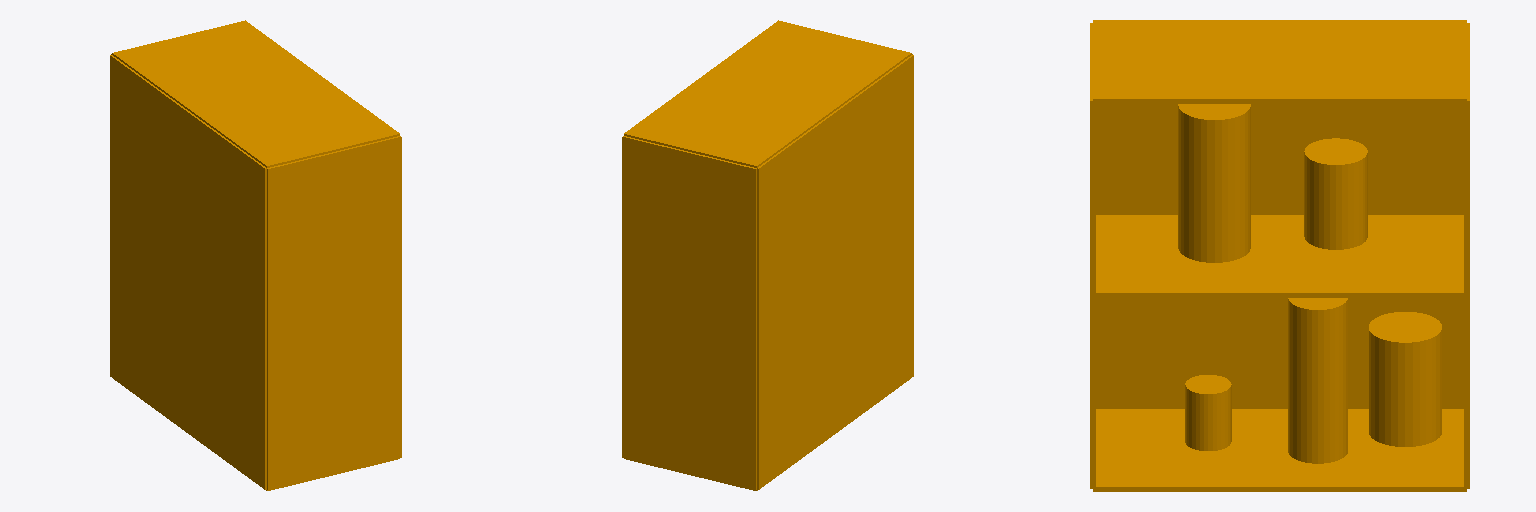
URDF robot description (syn_can_cabinet_1261):
<?xml version="1.0" ?>
<robot name="syn_can_cabinet_1261">
    <link concave="yes" name="base_link">
        <inertial>
            <origin rpy="0 0 0" xyz="0 0 0"/>
            <mass value="0.0"/>
            <inertia ixx="1e-08" ixy="0" ixz="0" iyy="1e-08" iyz="0" izz="1e-08"/>
        </inertial>
        <visual>
            <origin xyz="0 0 0" rpy="0 0 0" />
            <geometry>
                <mesh filename="syn_can_cabinet_1261.obj" scale="1.000000 1.000000 1.000000"/>
            </geometry>         
        </visual>

        <collision concave="yes">
            <origin xyz="0 0 0" rpy="0 0 0"/>
            <geometry>
                <mesh filename="syn_can_cabinet_1261.obj" scale="1.000000 1.000000 1.000000"/>
            </geometry>
        </collision>
    </link>
</robot>
    

--- Facts derived from the render (not from the file) ---
The picture shows the robot from 3 angles, left to right: view 1: azimuth 30°, elevation 25°; view 2: azimuth 150°, elevation 25°; view 3: azimuth 270°, elevation 25°; orthographic projection.
Model syn_can_cabinet_1261 with 1 links and 0 joints (none), rooted at base_link, posed all joints at 0.
Visible links, largest first — view 1: base_link; view 2: base_link; view 3: base_link.
Link boxes in pixels (x1=…): base_link: x1=110, y1=20, x2=401, y2=490; base_link: x1=622, y1=20, x2=913, y2=490; base_link: x1=1090, y1=20, x2=1469, y2=491.
Bounding box of the posed robot: 0.1651 × 0.333 × 0.3797 m (x, y, z).
Meshes: 1 distinct files referenced, 1 mesh visuals loaded (1 OBJ).
